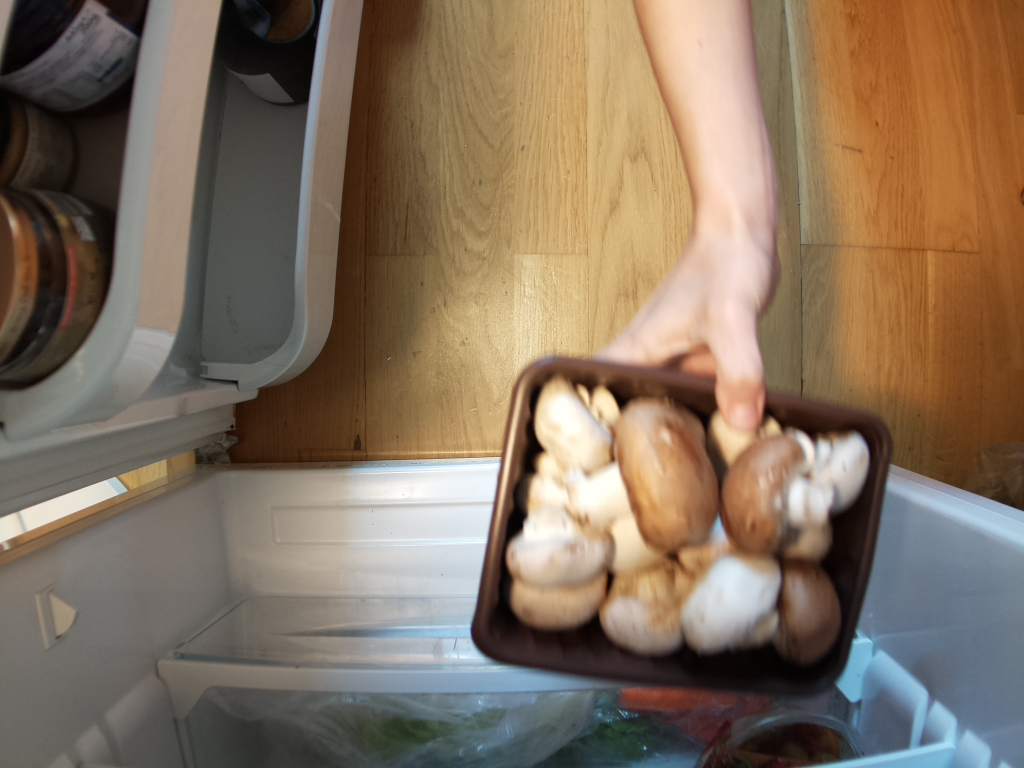mushrooms: (471, 351, 897, 700)
